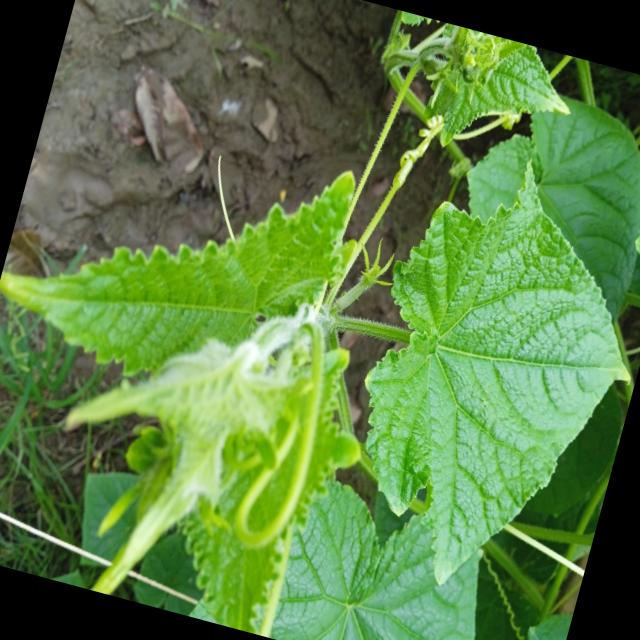cucumber_healthy: (0, 89, 433, 640), (312, 126, 640, 622), (429, 74, 640, 340), (245, 466, 531, 640), (395, 18, 590, 180)
